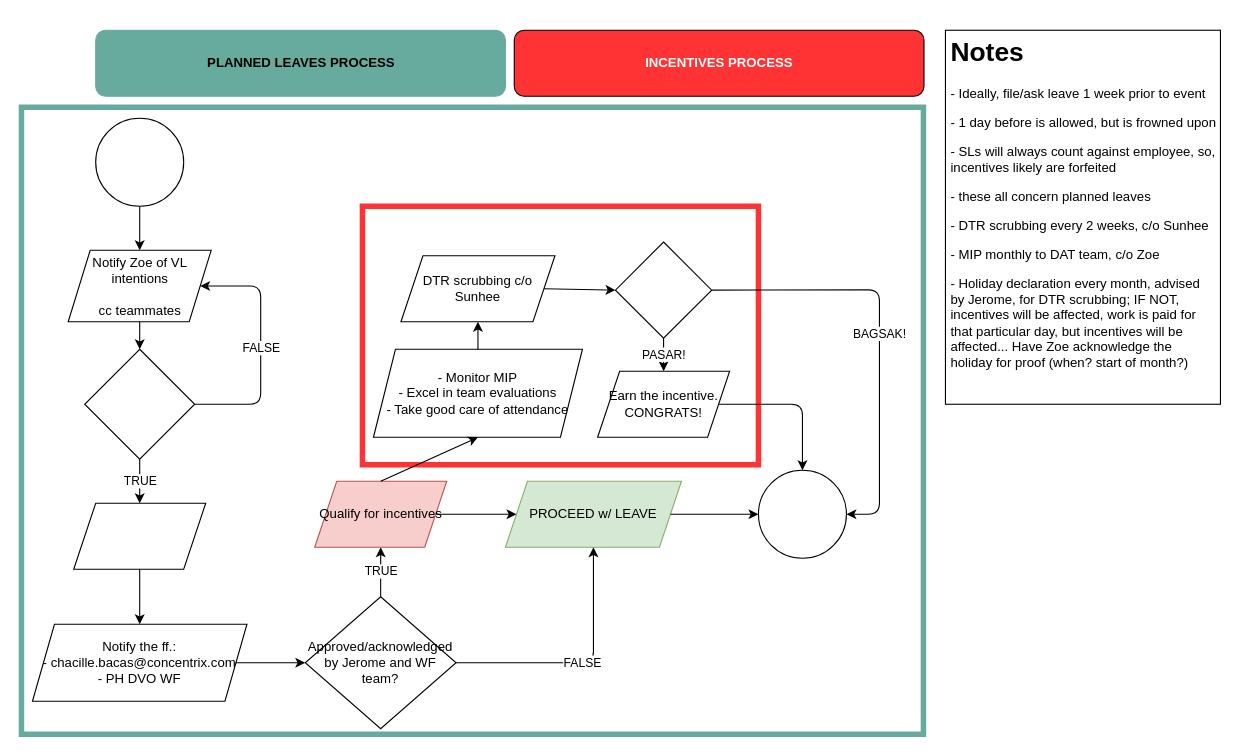
Some shapes in this 1240 by 756 pixel diagram are drawn without their labels. The centre of each missing label's shape, as x and y in pixels:
"Approved By Zoe?" goes at [139,403].
"END" goes at [801,513].
"Notify Jerome of approval" goes at [139,535].
"PASAR?" goes at [663,289].
"START" goes at [139,161].
